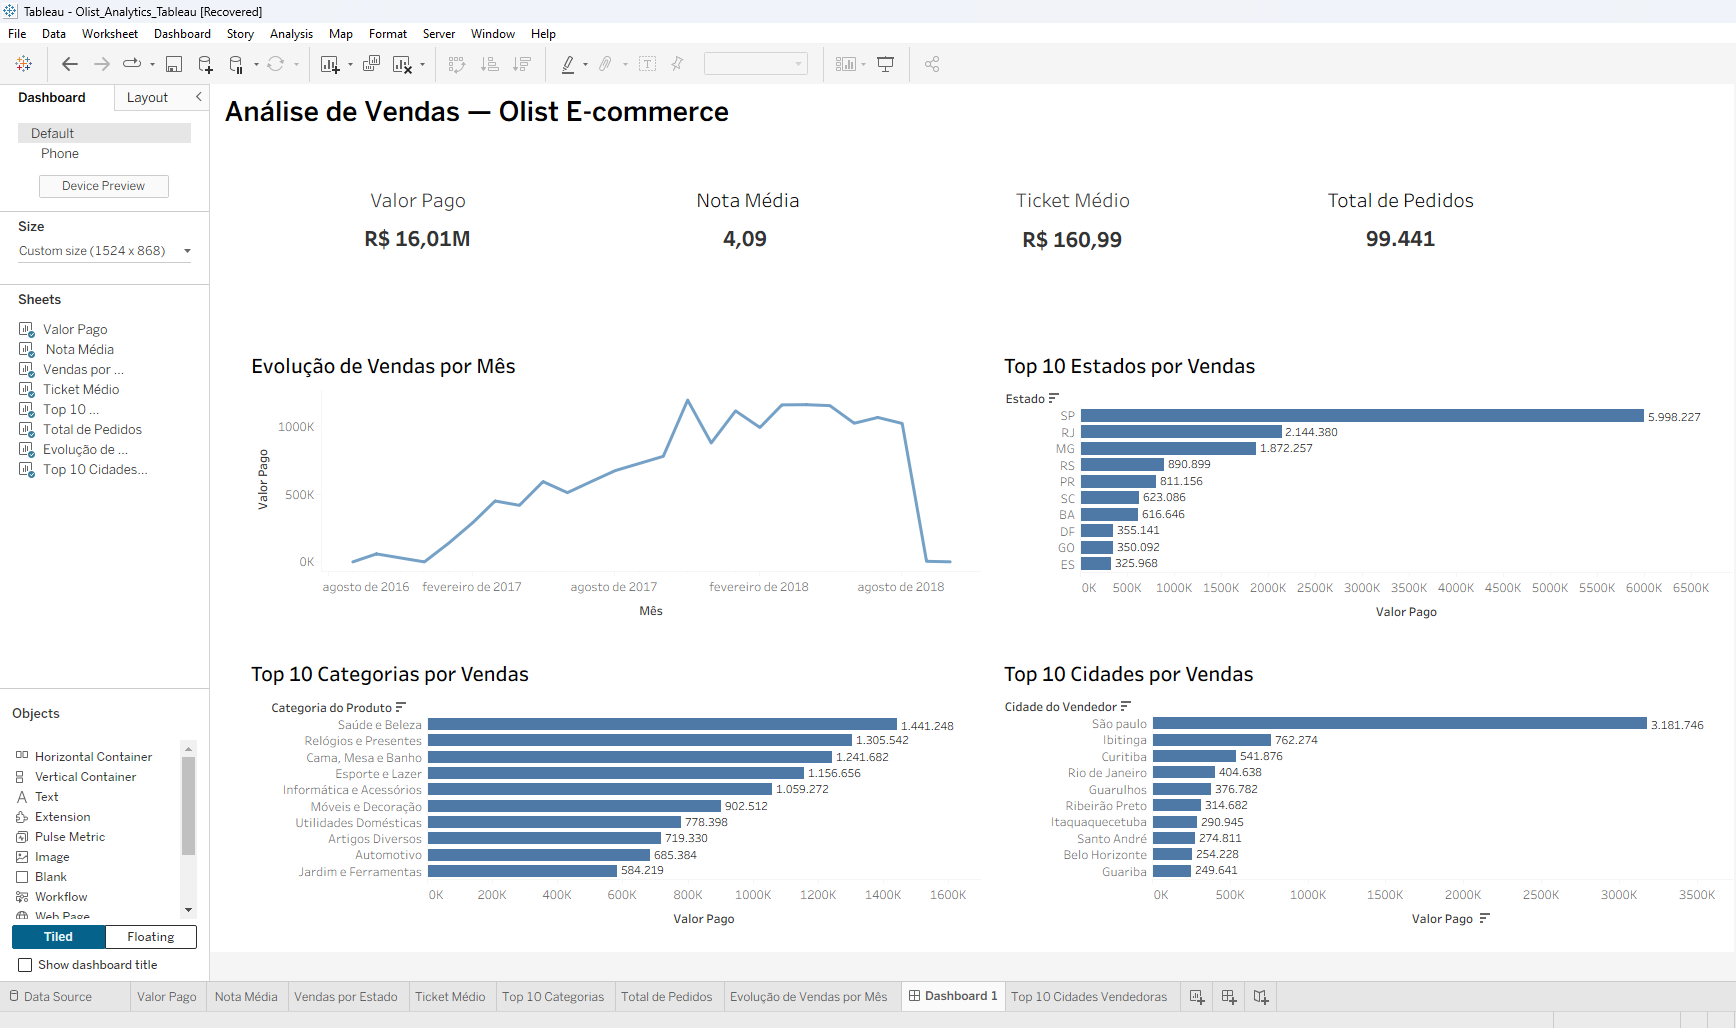

Layout of this report page (visuals, bound fields, positions):
{"tool":"tableau","page":{"name":"Dashboard 1","canvas":[1024,768],"ordinal":0},"visuals":[{"type":"title","box":[8,8,1008,41]},{"type":"worksheet","title":"Total de Pedidos","mark":"Automatic","box":[747,81,222,79]},{"type":"worksheet","title":"Ticket Médio","mark":"Automatic","box":[487,84,201,67]},{"type":"worksheet","title":"Valor Pago","mark":"Automatic","box":[49,87,160,65]},{"type":"worksheet","title":" Nota Média","mark":"Automatic","box":[261,88,172,77]},{"type":"worksheet","title":"Vendas por Estado","mark":"Automatic","rows":["customer_state"],"cols":["valor_pago"],"box":[572,203,446,280]},{"type":"worksheet","title":"Evolução de Vendas por Mês","mark":"Automatic","rows":["valor_pago"],"cols":["order_purchase_timestamp"],"box":[25,233,493,247]},{"type":"worksheet","title":"Top 10 Categorias","mark":"Automatic","rows":["product_category_name_english"],"cols":["total_item"],"box":[57,500,434,266]},{"type":"worksheet","title":"Top 10 Cidades Vendedoras","mark":"Automatic","rows":["seller_city"],"cols":["total_item"],"box":[588,528,425,220]}]}

Visuals, with their boxes on the page's 1024x768 design canvas (x1, y1, x2, y2). These are canvas units, not pixel positions in the 1736x1028 screenshot, which may show the page scaled, cropped or inside an application window:
title: (x1=8, y1=8, x2=1016, y2=49)
"Total de Pedidos" worksheet: (x1=747, y1=81, x2=969, y2=160)
"Ticket Médio" worksheet: (x1=487, y1=84, x2=688, y2=151)
"Valor Pago" worksheet: (x1=49, y1=87, x2=209, y2=152)
" Nota Média" worksheet: (x1=261, y1=88, x2=433, y2=165)
"Vendas por Estado" worksheet: (x1=572, y1=203, x2=1018, y2=483)
"Evolução de Vendas por Mês" worksheet: (x1=25, y1=233, x2=518, y2=480)
"Top 10 Categorias" worksheet: (x1=57, y1=500, x2=491, y2=766)
"Top 10 Cidades Vendedoras" worksheet: (x1=588, y1=528, x2=1013, y2=748)
